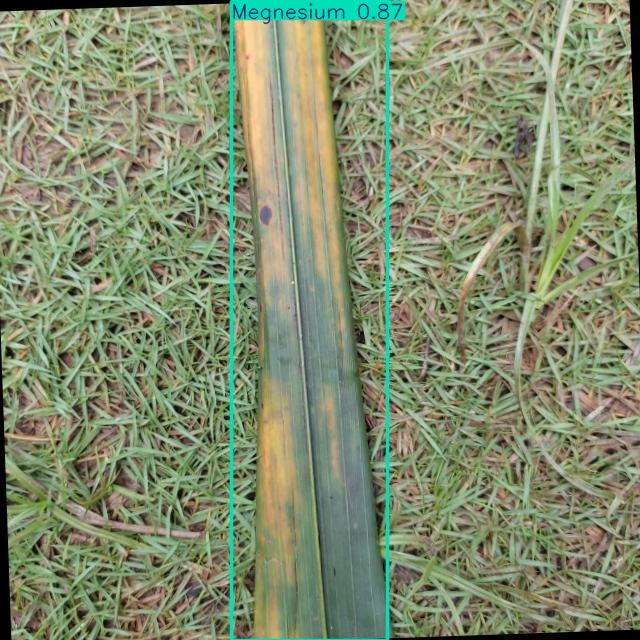Megnesium: (231, 1, 388, 640)
